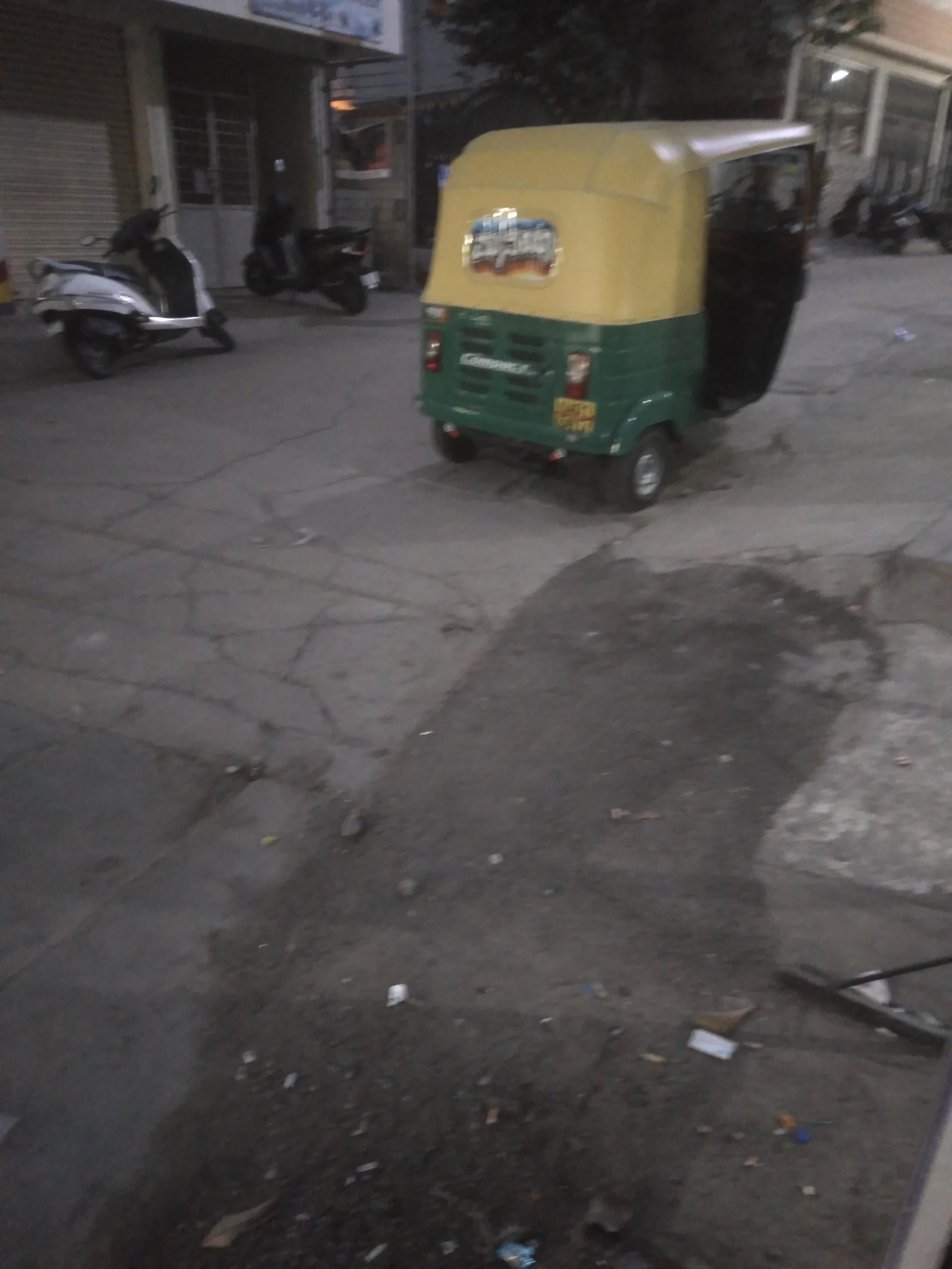non-ambulance: (386, 75, 881, 526)
